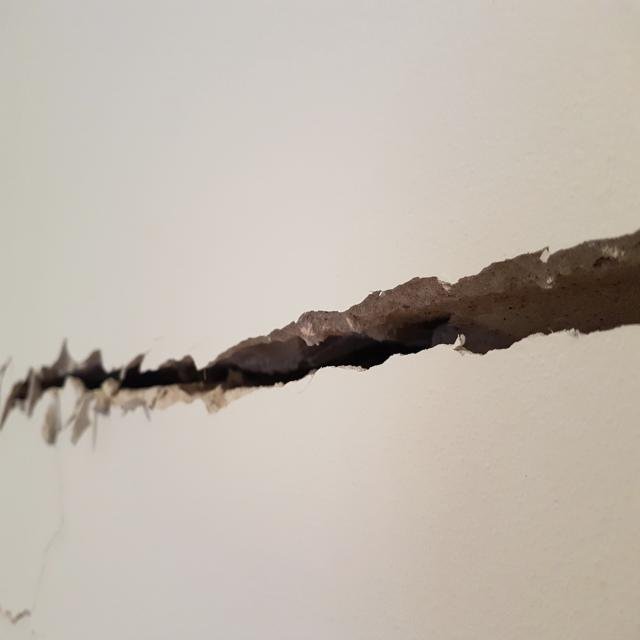Wall_Cracks: (3, 186, 638, 550)
